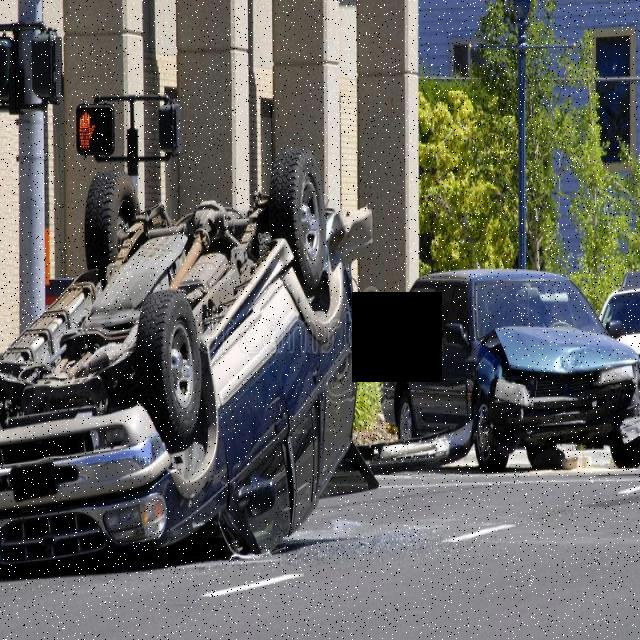severe: (0, 157, 374, 572)
